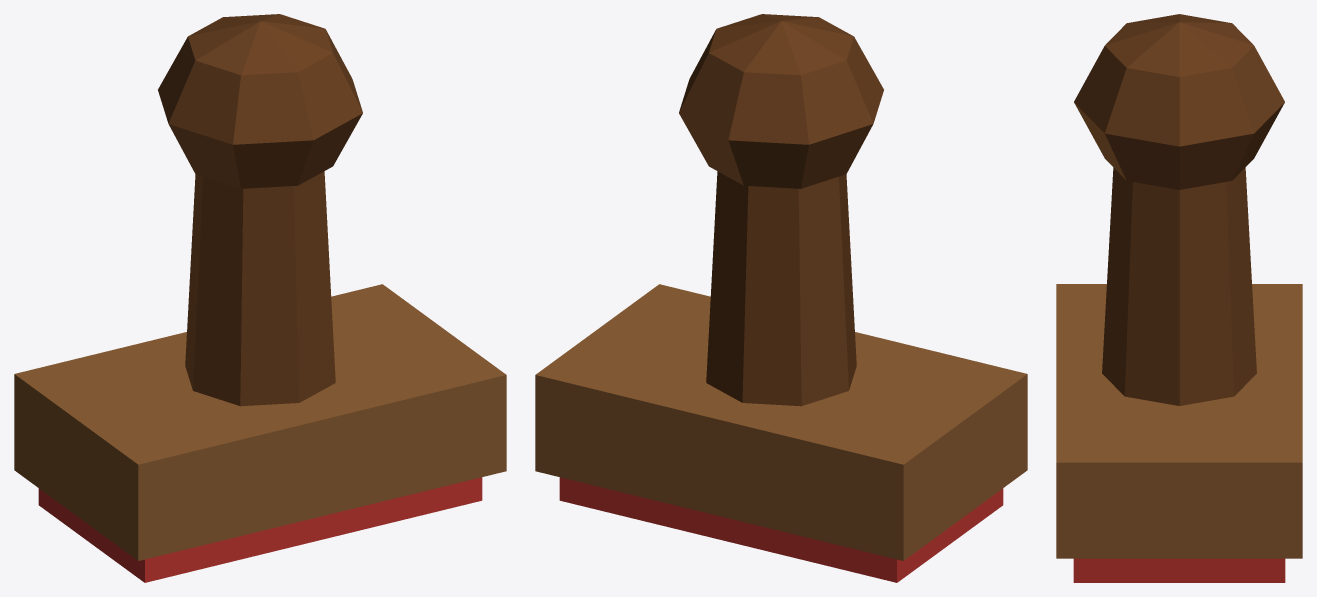
The model's file is wood_stamp.glb.
The picture shows the model from 3 angles, left to right: view 1: azimuth 30°, elevation 25°; view 2: azimuth 150°, elevation 25°; view 3: azimuth 270°, elevation 25°; orthographic projection.
Parts seen in each view (by area): view 1: base_stamp_wood, handle_stamp_handle, knob_stamp_handle, rubber_stamp_red; view 2: base_stamp_wood, handle_stamp_handle, knob_stamp_handle, rubber_stamp_red; view 3: base_stamp_wood, handle_stamp_handle, knob_stamp_handle, rubber_stamp_red.
Part boxes in pixels (box(x1,y1,x2,y2)): base_stamp_wood: box(14, 284, 506, 560); handle_stamp_handle: box(185, 171, 335, 406); knob_stamp_handle: box(158, 14, 362, 188); rubber_stamp_red: box(38, 477, 482, 582); base_stamp_wood: box(535, 284, 1027, 560); handle_stamp_handle: box(706, 171, 856, 406); knob_stamp_handle: box(679, 14, 883, 188); rubber_stamp_red: box(559, 477, 1003, 582); base_stamp_wood: box(1056, 284, 1302, 558); handle_stamp_handle: box(1102, 167, 1256, 405); knob_stamp_handle: box(1074, 14, 1284, 189); rubber_stamp_red: box(1073, 558, 1285, 582).
Size of the model in its own units: 0.12 by 0.15 by 0.07.
